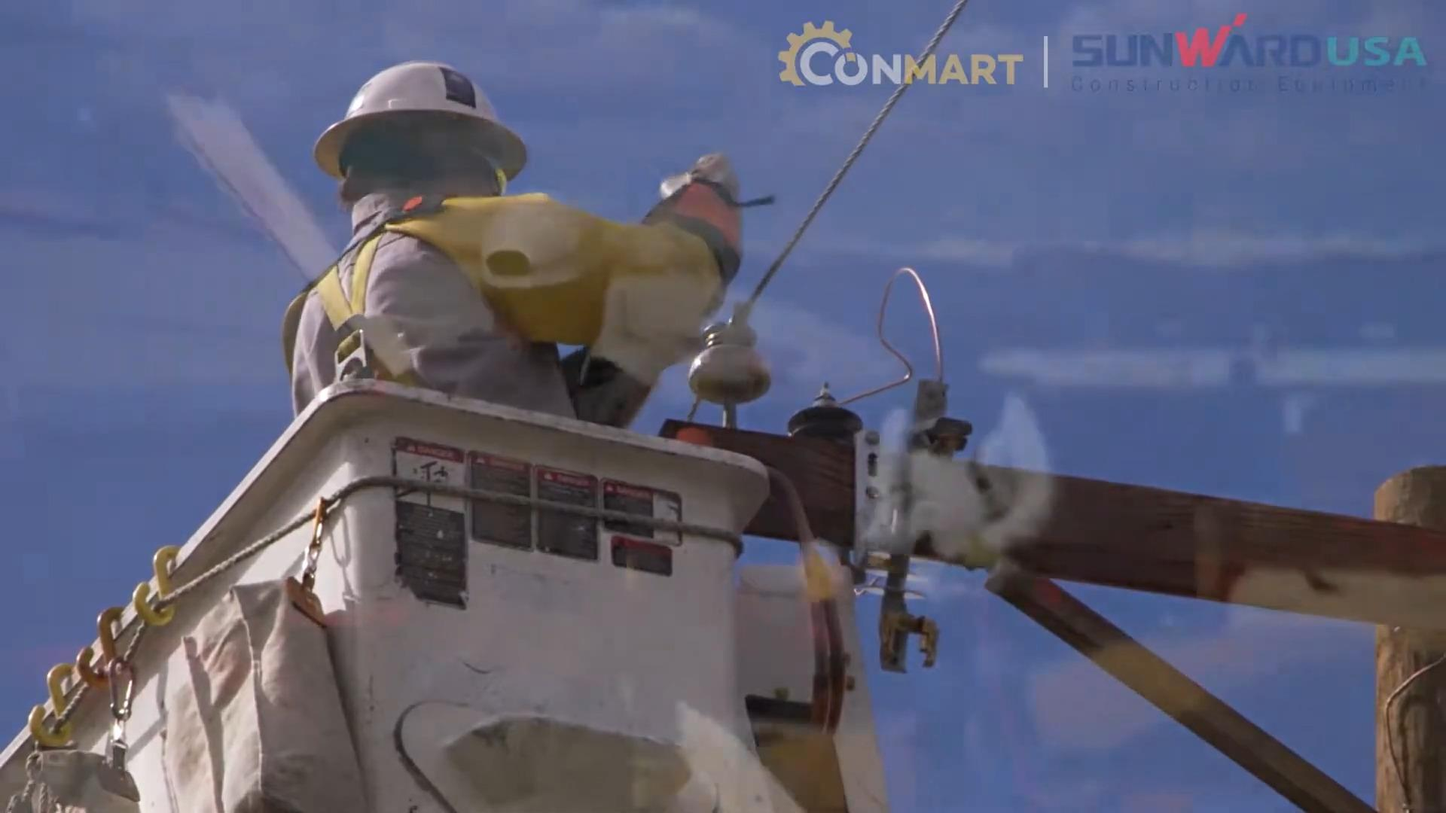Helmet: (318, 60, 519, 164)
Person: (282, 59, 746, 428)
Safety Vest: (307, 238, 598, 396)
